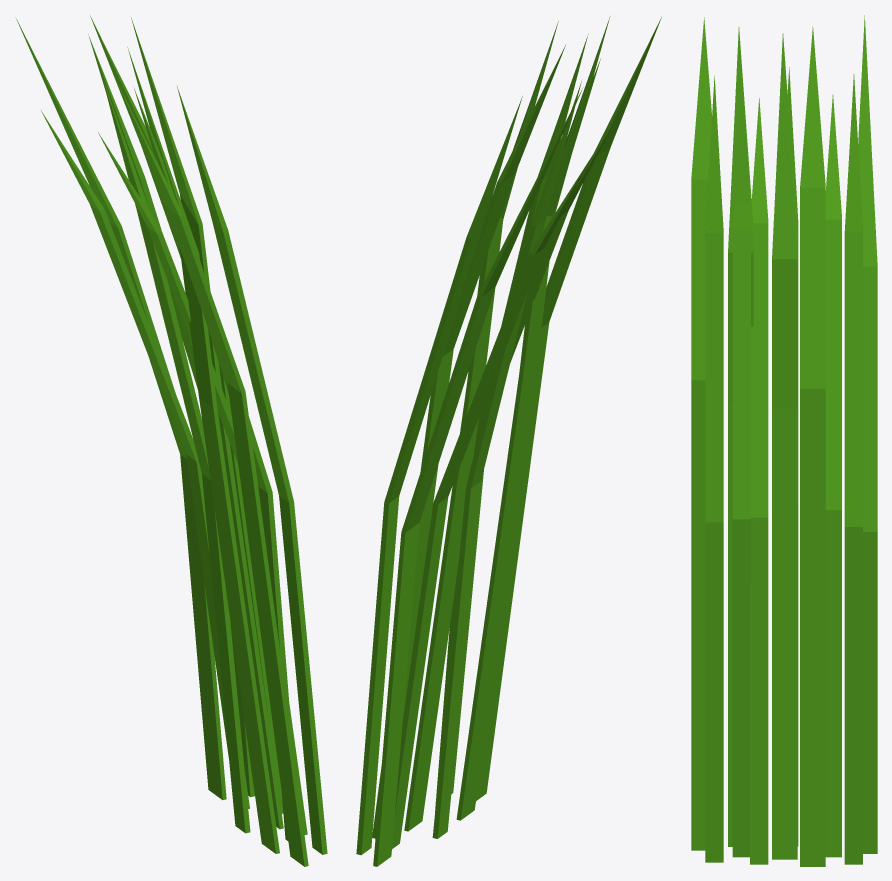
Rendered from Grass_i_02.fbx.
3 views of the same model, side by side, from view 1: azimuth 30°, elevation 25°; view 2: azimuth 150°, elevation 25°; view 3: azimuth 270°, elevation 25° (orthographic). The views are drawn at different scales.
Visible parts, largest first — view 1: Grass_i_02_LOD0; view 2: Grass_i_02_LOD0; view 3: Grass_i_02_LOD0.
Boxes of the visible parts, x1,y1,x2,y2 form: Grass_i_02_LOD0: (15,15,327,866); Grass_i_02_LOD0: (356,16,661,866); Grass_i_02_LOD0: (691,15,877,866).
Size of what is drawn, in the model's own units: 8.63 by 29.67 by 6.56.
